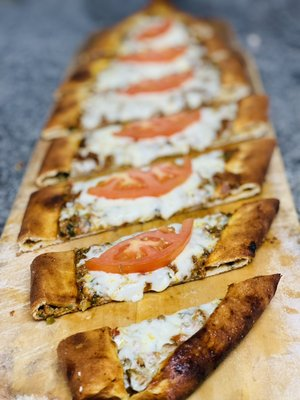sandwich: (12, 4, 297, 366), (25, 6, 279, 242)
